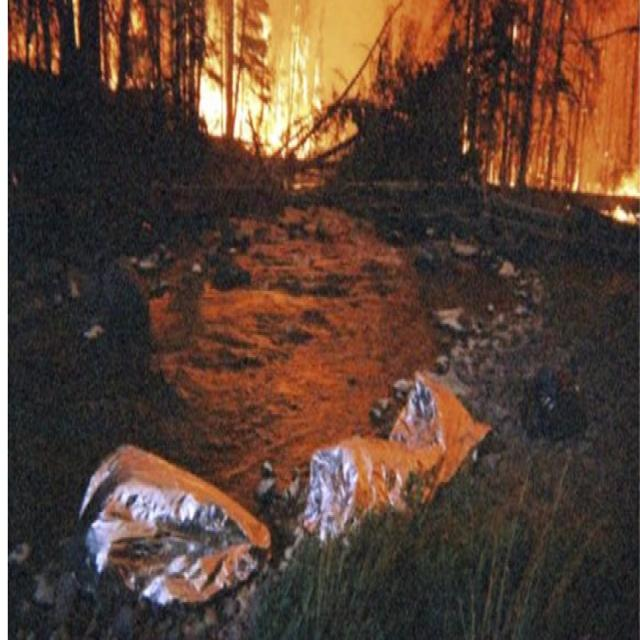Fire: (0, 0, 318, 176)
